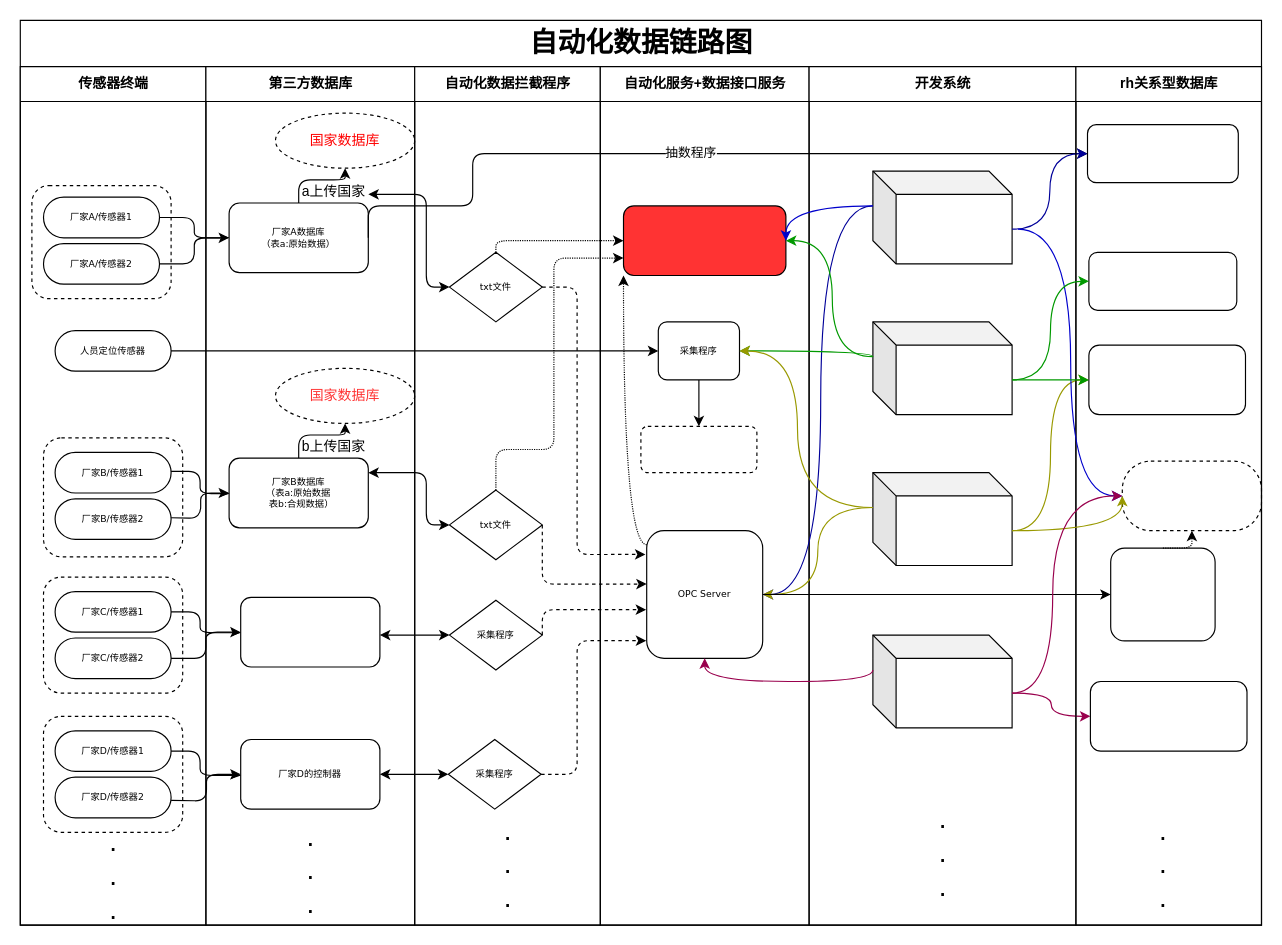
Some shapes in this 1282 by 945 pixel diagram are drawn without their labels. The centre of each missing label's shape, as x and y in pixels:
"RealAutomateService" goes at [704,240].
"产量平衡Oracle数据库 （252服务器）" goes at [1168,715].
"产量平衡系统" goes at [942,681].
"人员定位Oracle数据库 （250服务器）" goes at [1166,379].
"人员定位系统" goes at [942,519].
"厂家C的txt文件" goes at [310,631].
"映射为txt文件" goes at [698,449].
"映射到Oracle外表 （188服务器）" goes at [1191,495].
"矿山云图Oracle数据库 （249服务器）" goes at [1162,153].
"矿山云图系统" goes at [942,217].
"落盘到txt文件 （188服务器）" goes at [1162,594].
"辅助运输Oracle数据库 （174服务器）" goes at [1162,280].
"辅助运输系统" goes at [942,368].
